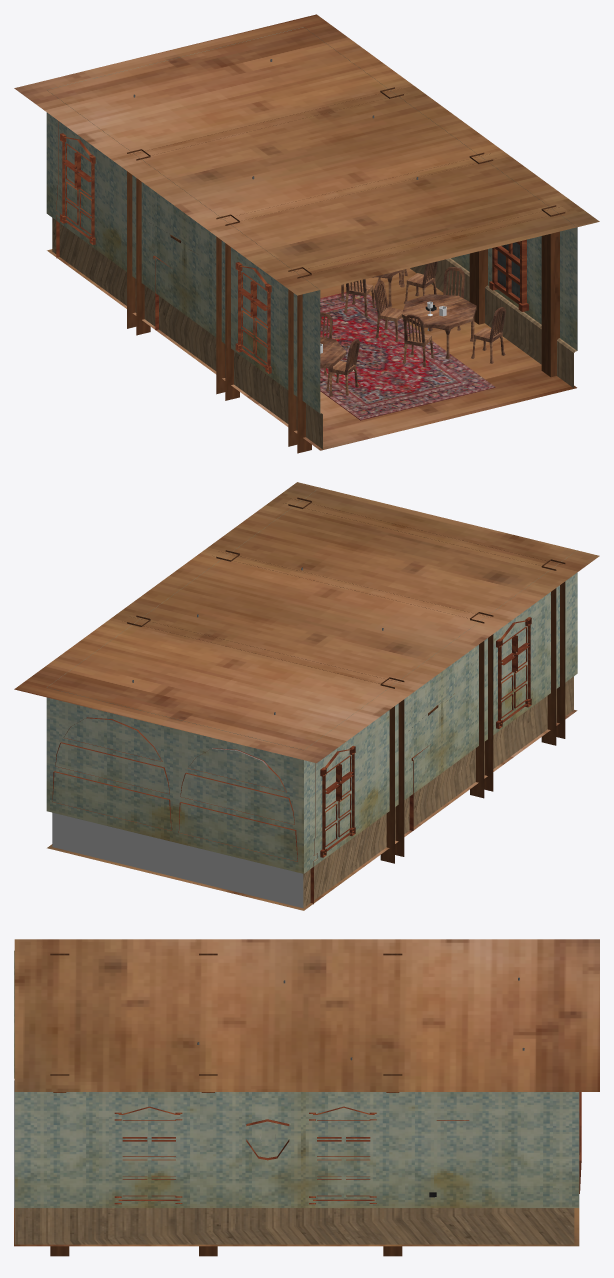
File: SM_TOUT.fbx
3 views of the same model, one above another, from view 1: azimuth 30°, elevation 25°; view 2: azimuth 150°, elevation 25°; view 3: azimuth 270°, elevation 25° (orthographic). The views are drawn at different scales.
Parts seen in each view (by area): view 1: SM_sol_plafond, SM_sol_murs, SM_tapis, SM_poutres3, SM_poutres2, SM_poutres1, SM_table, SM_fenetre01, SM_fenetre06, SM_fenetre07, SM_chaise3, SM_chaise (+4 smaller); view 2: SM_sol_plafond, SM_sol_murs, SM_poutres1, SM_poutres3, SM_poutres2, SM_etagere, SM_fenetre06, SM_fenetre07; view 3: SM_sol_plafond, SM_sol_murs, SM_fenetre01, SM_fenetre05.
Part boxes in pixels (x1=…): SM_sol_plafond: x1=14, y1=14, x2=599, y2=450; SM_sol_murs: x1=46, y1=27, x2=577, y2=449; SM_tapis: x1=320, y1=292, x2=495, y2=420; SM_poutres3: x1=288, y1=205, x2=565, y2=453; SM_poutres2: x1=216, y1=152, x2=493, y2=400; SM_poutres1: x1=127, y1=87, x2=403, y2=335; SM_table: x1=402, y1=294, x2=476, y2=359; SM_fenetre01: x1=489, y1=239, x2=528, y2=311; SM_fenetre06: x1=235, y1=262, x2=271, y2=373; SM_fenetre07: x1=60, y1=133, x2=95, y2=244; SM_chaise3: x1=402, y1=314, x2=434, y2=367; SM_chaise: x1=471, y1=307, x2=505, y2=363; SM_sol_plafond: x1=14, y1=482, x2=599, y2=910; SM_sol_murs: x1=46, y1=490, x2=577, y2=908; SM_poutres1: x1=127, y1=615, x2=404, y2=863; SM_poutres3: x1=285, y1=497, x2=565, y2=745; SM_poutres2: x1=216, y1=550, x2=493, y2=798; SM_etagere: x1=52, y1=717, x2=317, y2=904; SM_fenetre06: x1=496, y1=617, x2=531, y2=728; SM_fenetre07: x1=320, y1=746, x2=355, y2=857; SM_sol_plafond: x1=14, y1=939, x2=599, y2=1246; SM_sol_murs: x1=14, y1=950, x2=579, y2=1244; SM_fenetre01: x1=114, y1=1106, x2=182, y2=1204; SM_fenetre05: x1=309, y1=1106, x2=376, y2=1204.
Bounding box in the file's own units: 50.54 × 28.23 × 82.02.
